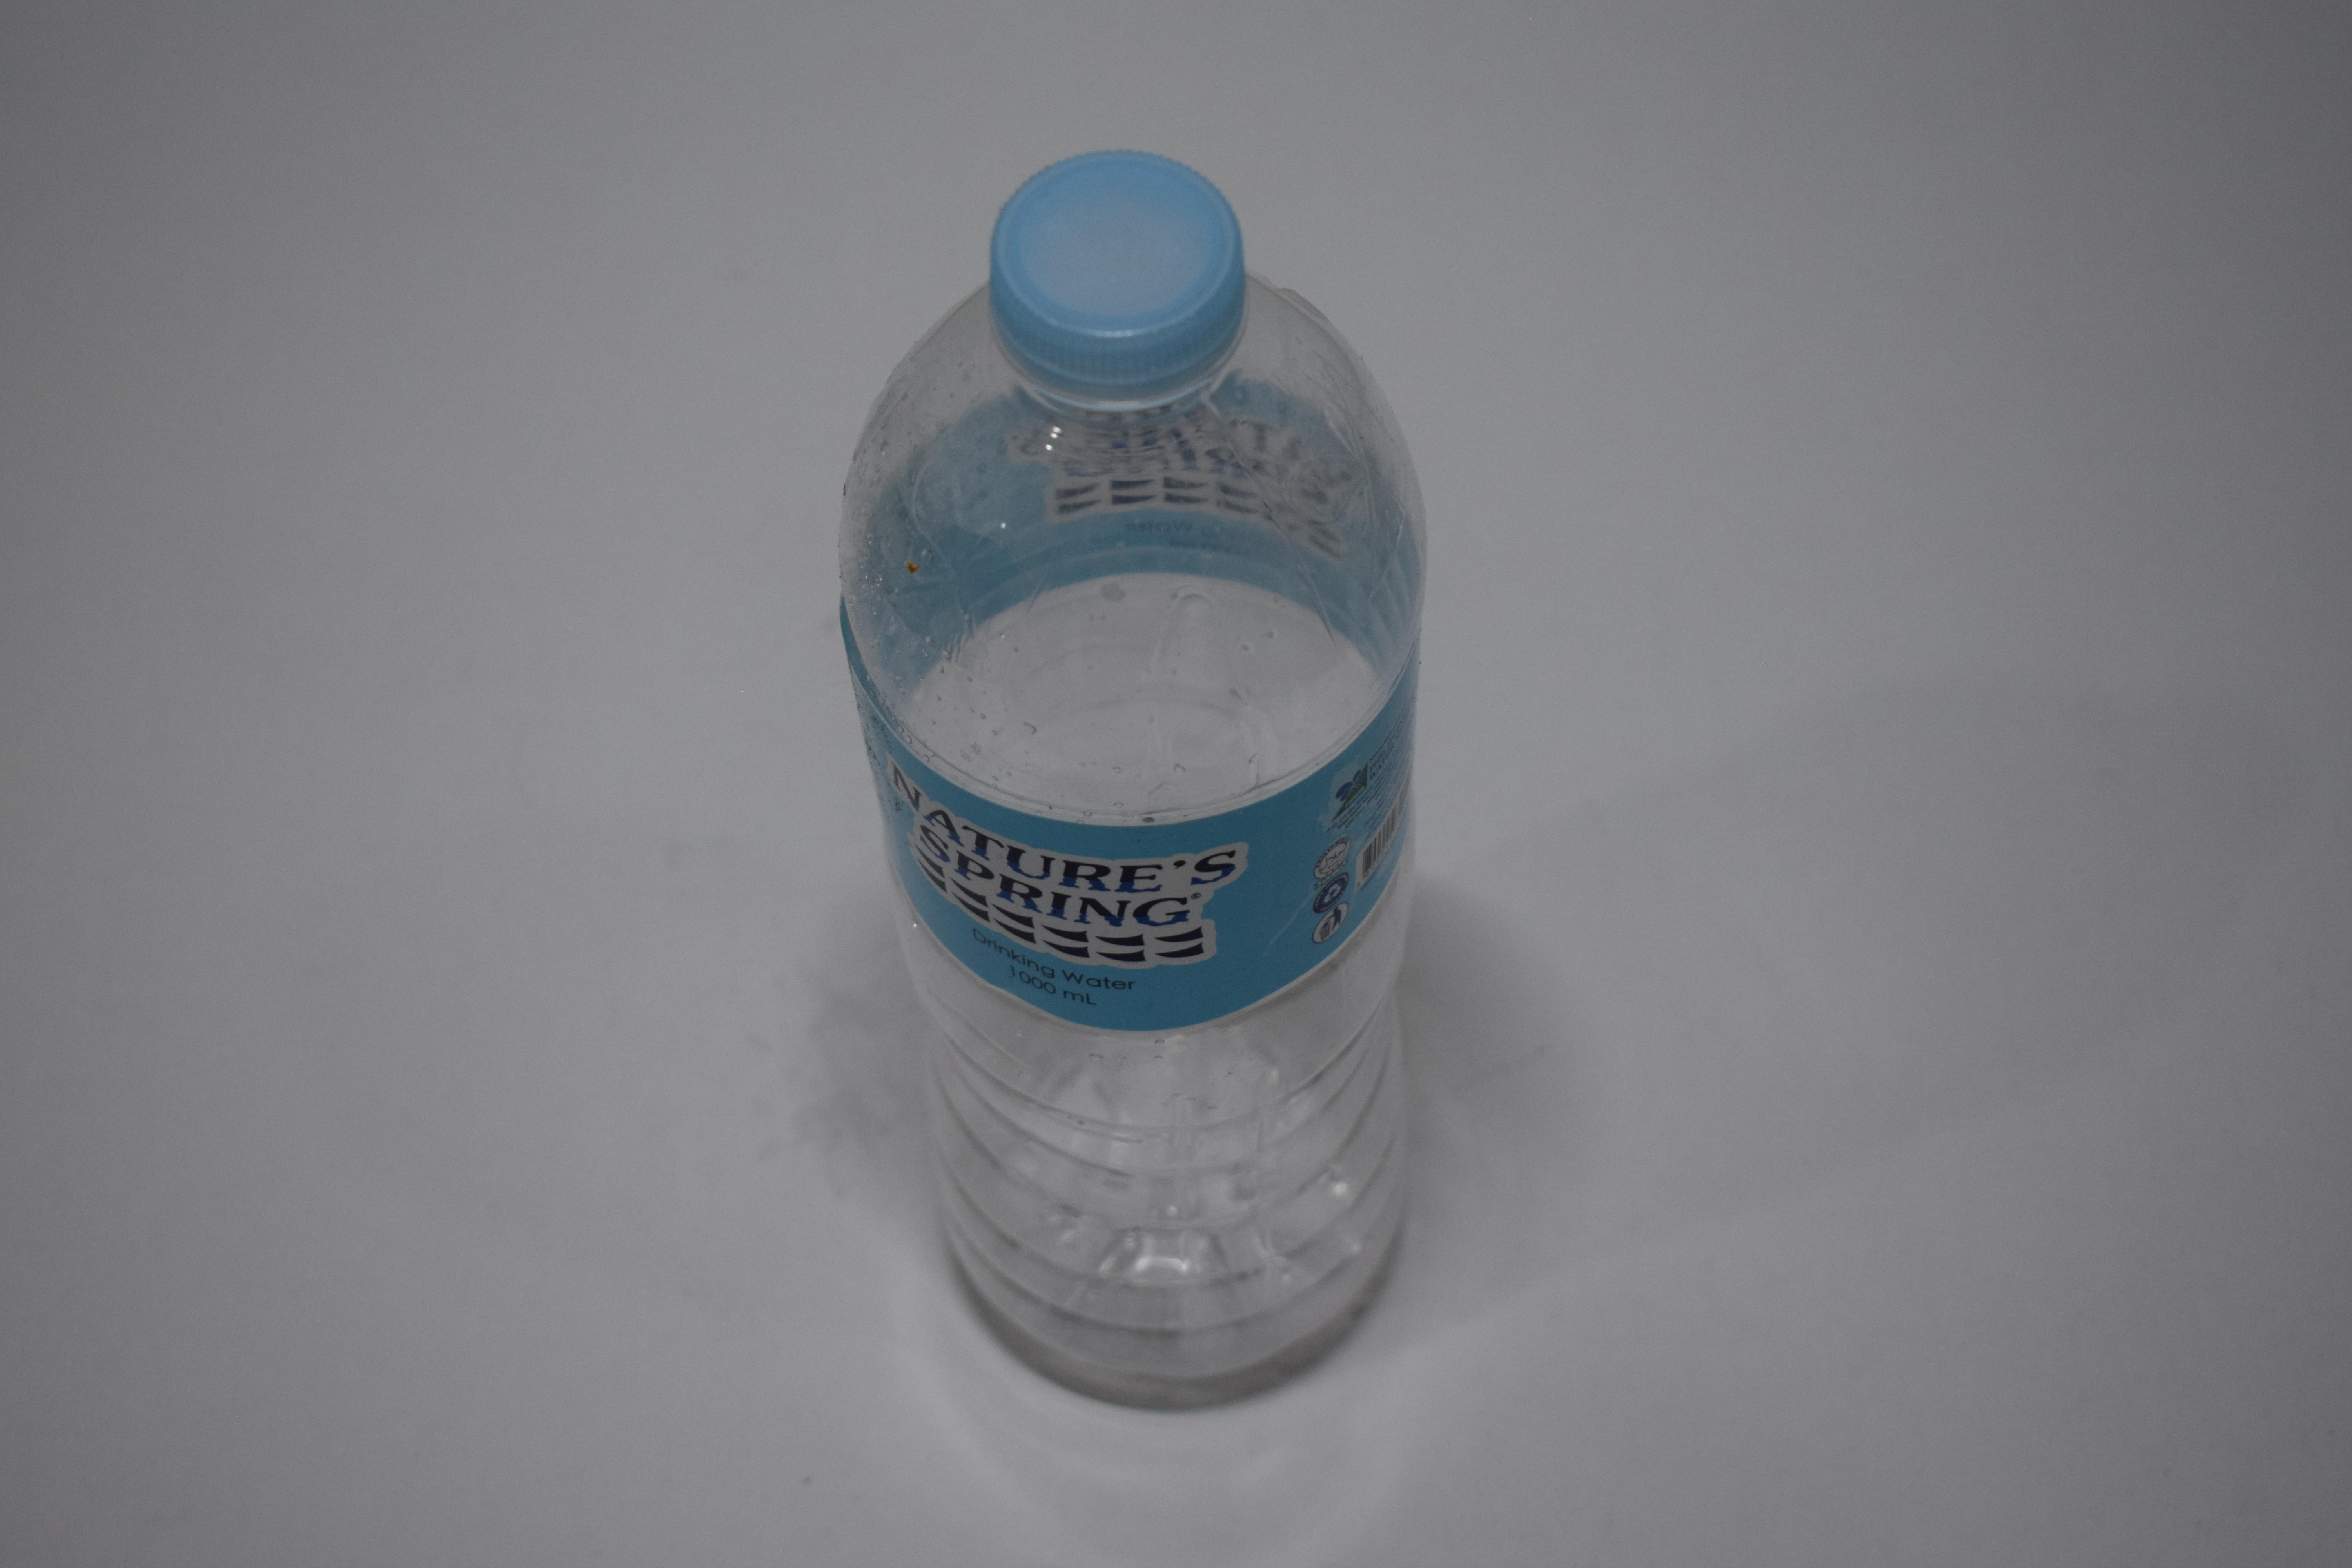bottle: (886, 136, 1365, 1391)
